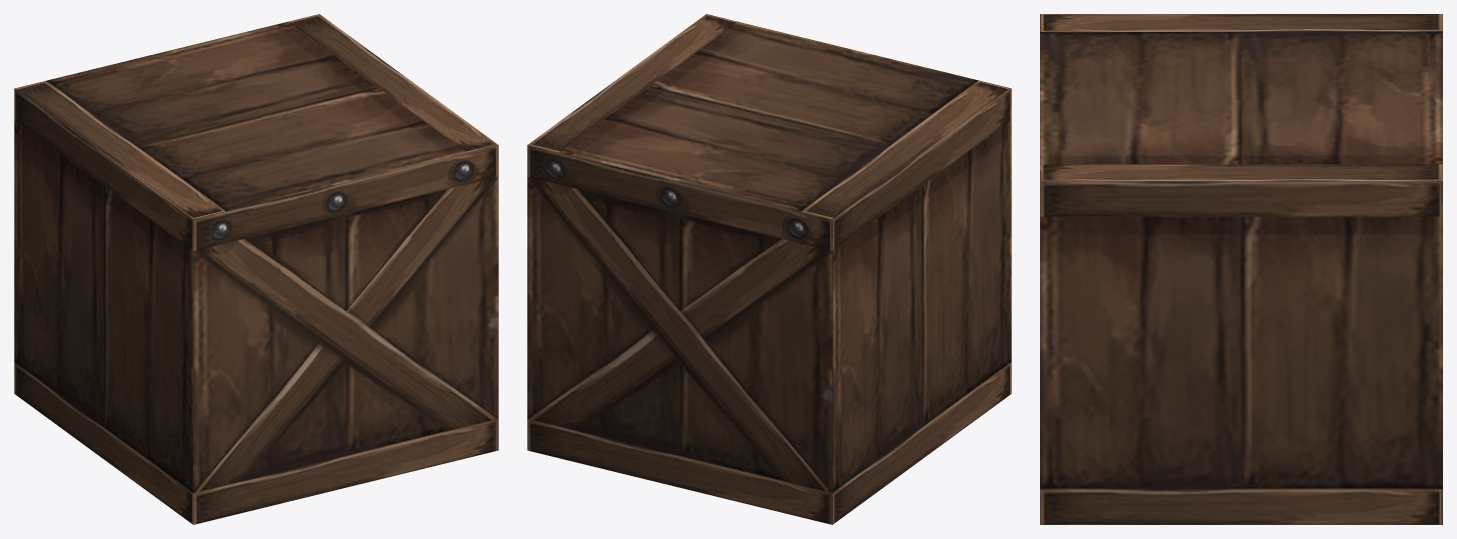
3 renders of one model, left to right at view 1: azimuth 30°, elevation 25°; view 2: azimuth 150°, elevation 25°; view 3: azimuth 270°, elevation 25°, orthographic. The views are drawn at different scales.
Visible parts, largest first — view 1: box_k005; view 2: box_k005; view 3: box_k005.
Boxes of the visible parts, x1,y1,x2,y2 form: box_k005: [14, 14, 498, 524]; box_k005: [527, 14, 1011, 524]; box_k005: [1040, 14, 1442, 524].
Size of the model in its own units: 1.05 by 1 by 1.06.
Materials: 1 (1 with a texture image).
